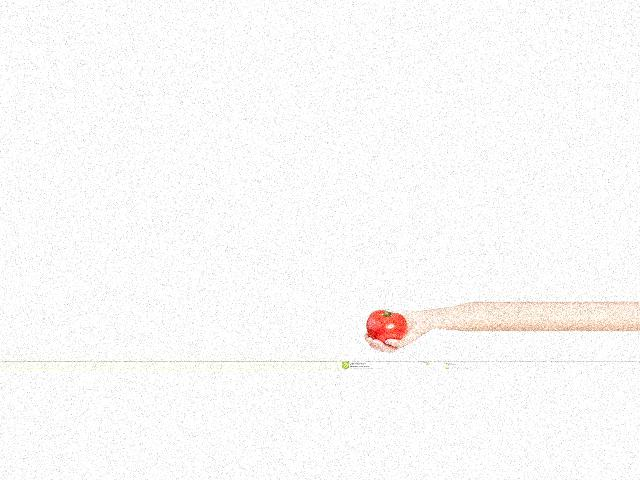tomato: (366, 309, 408, 343)
